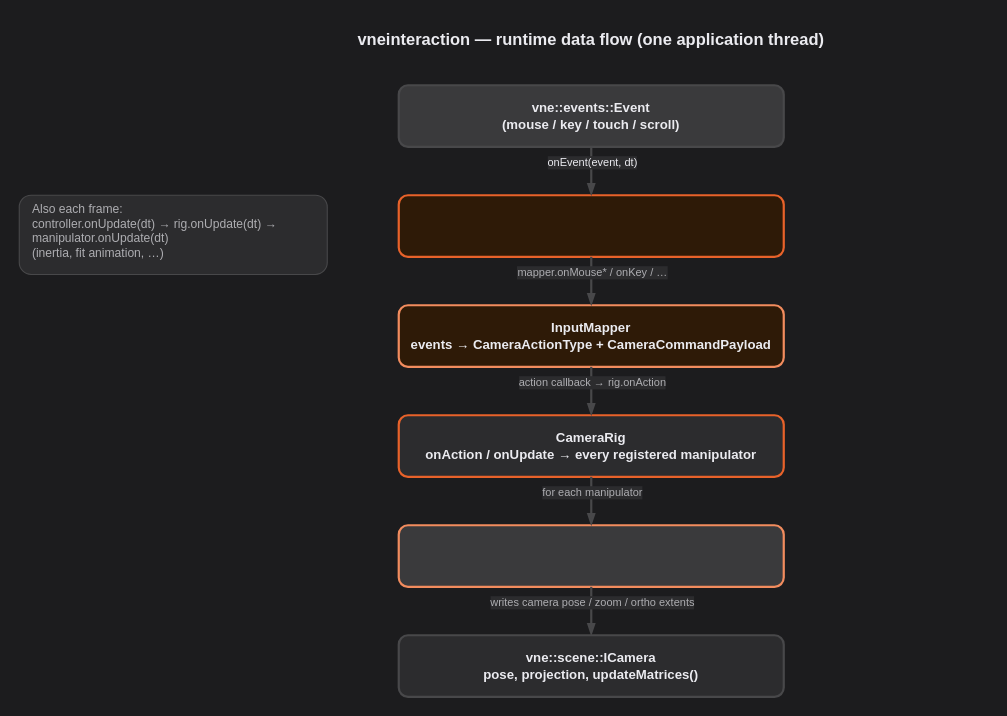
This 1007x716 diagram has some shape labels left out. Here are the shapes that lost their labels. From the top down, the box of each, then its label:
(397, 194, 784, 257): ICameraController Inspect3D · Navigation3D · Ortho2D · Follow
(397, 524, 784, 587): ICameraManipulator Orbital · FreeLook · Ortho2D · Follow
